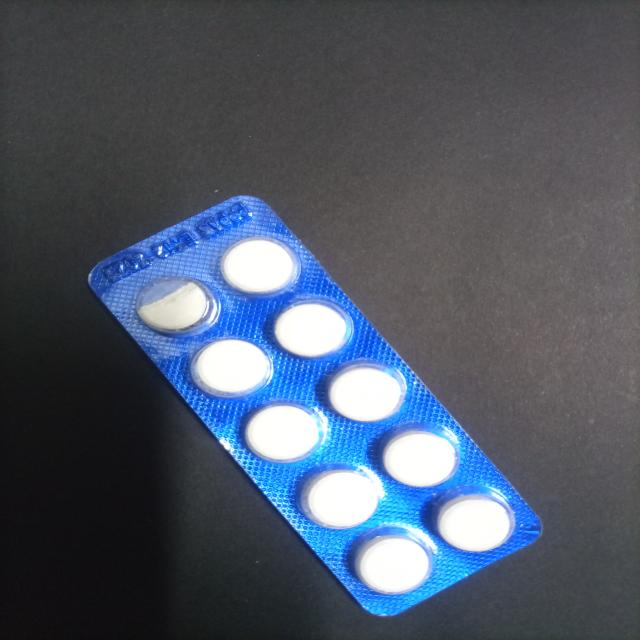defect: (132, 274, 222, 338)
